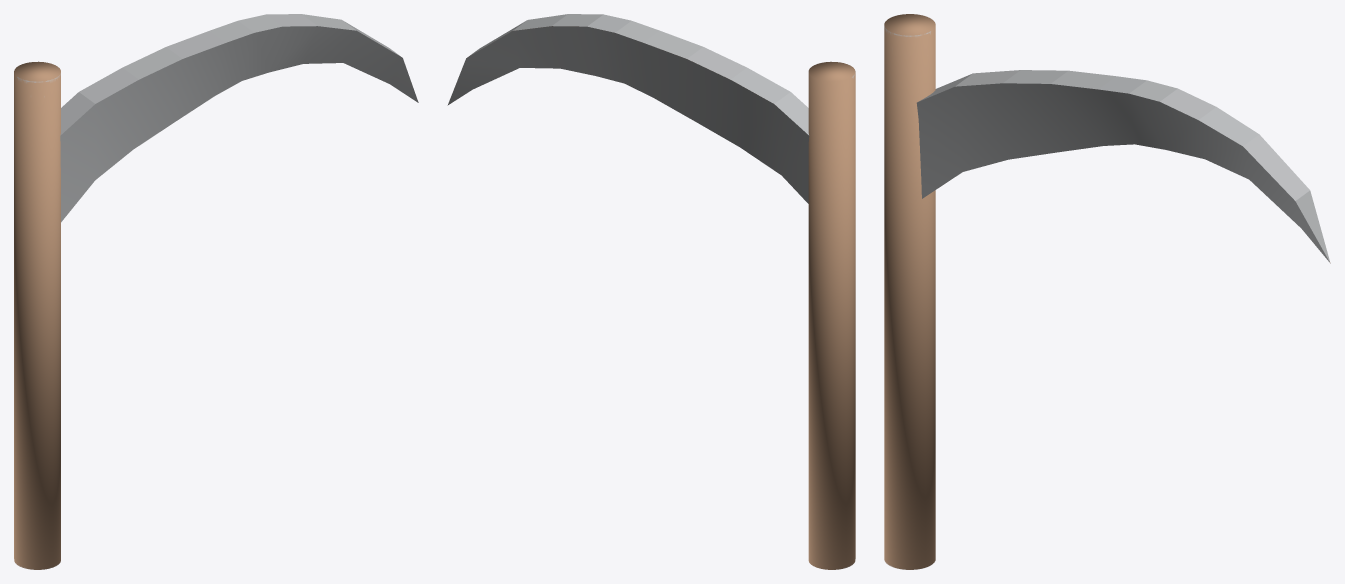
File: EnemyAttack.obj
3 views of the same model, side by side, from view 1: azimuth 30°, elevation 25°; view 2: azimuth 150°, elevation 25°; view 3: azimuth 330°, elevation 25° (orthographic). The views are drawn at different scales.
Visible parts, largest first — view 1: 立方体; view 2: 立方体; view 3: 立方体.
Part boxes in pixels (box(x1,y1,x2,y2)): 立方体: box(14, 14, 418, 569); 立方体: box(447, 14, 855, 569); 立方体: box(884, 14, 1330, 569).
Bounding box in the file's own units: 1.73 × 2 × 0.1747.
1 material, 1 textured.
